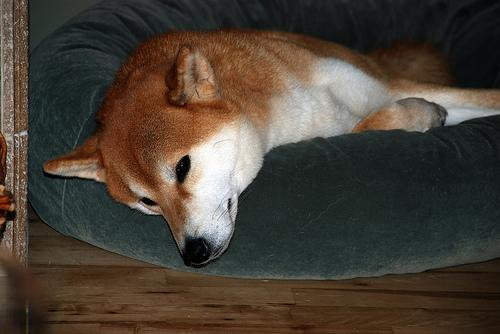dog-shiba_inu: (41, 44, 261, 264)
